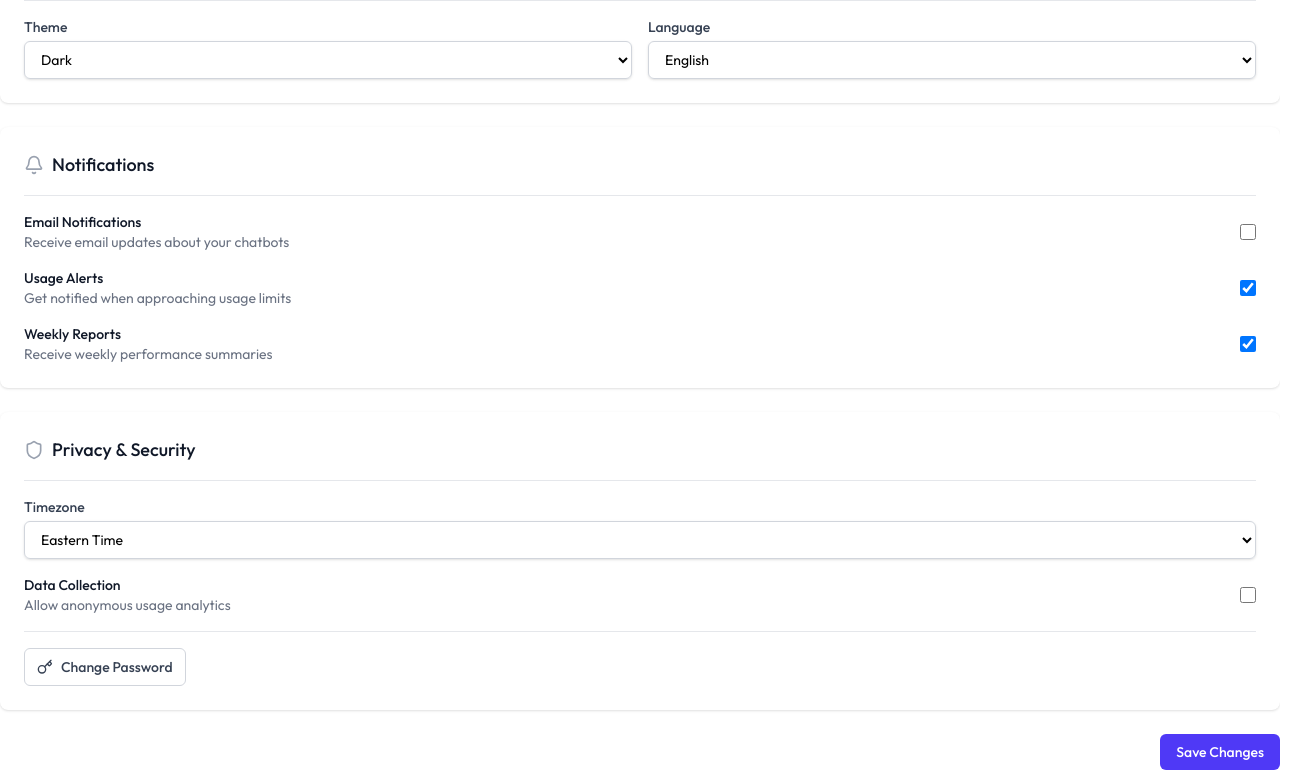
Settings › saves settings successfully
The width and height of the screenshot is (1292, 770).
(page scrolled)
Click the button "Save Changes".
click(1220, 752)  # box 1160,734 -> 1280,769
(page scrolled)
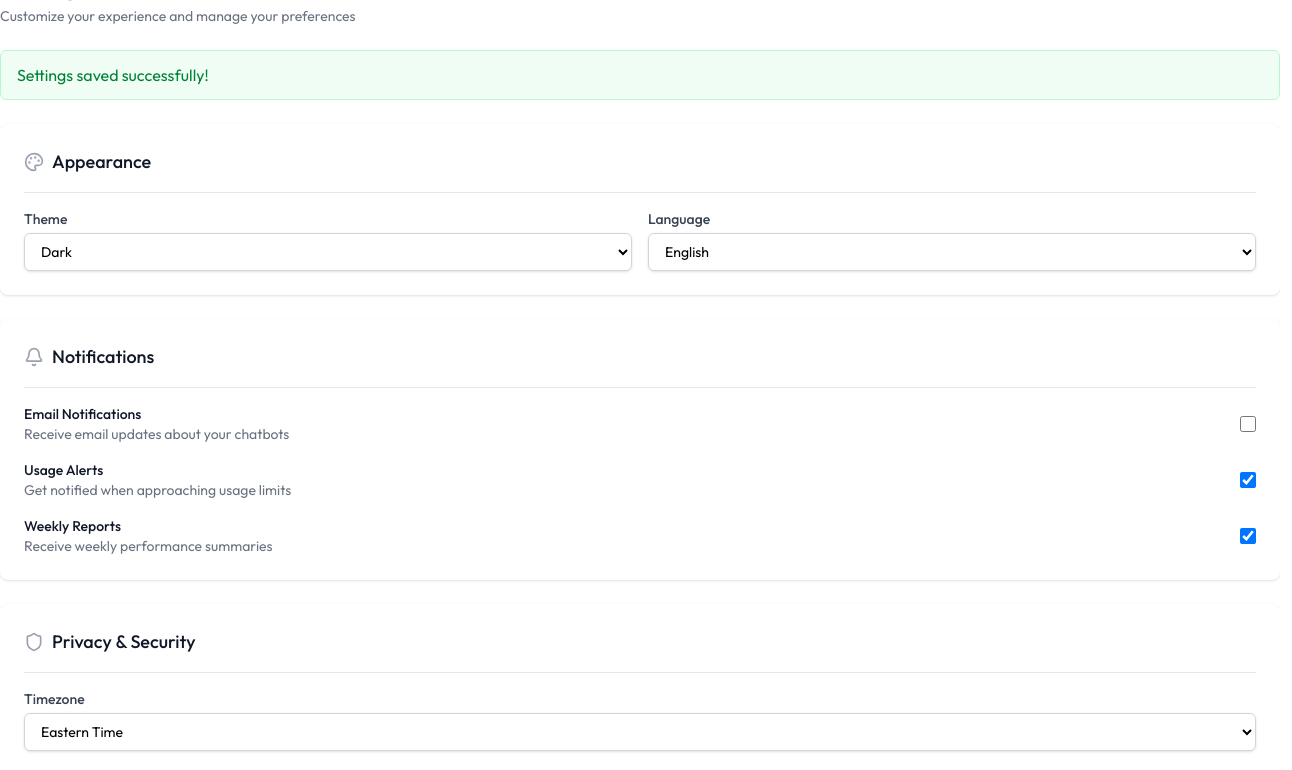
expect the text "Settings saved successfully!" is shown: met, box 0,50 -> 1280,100
